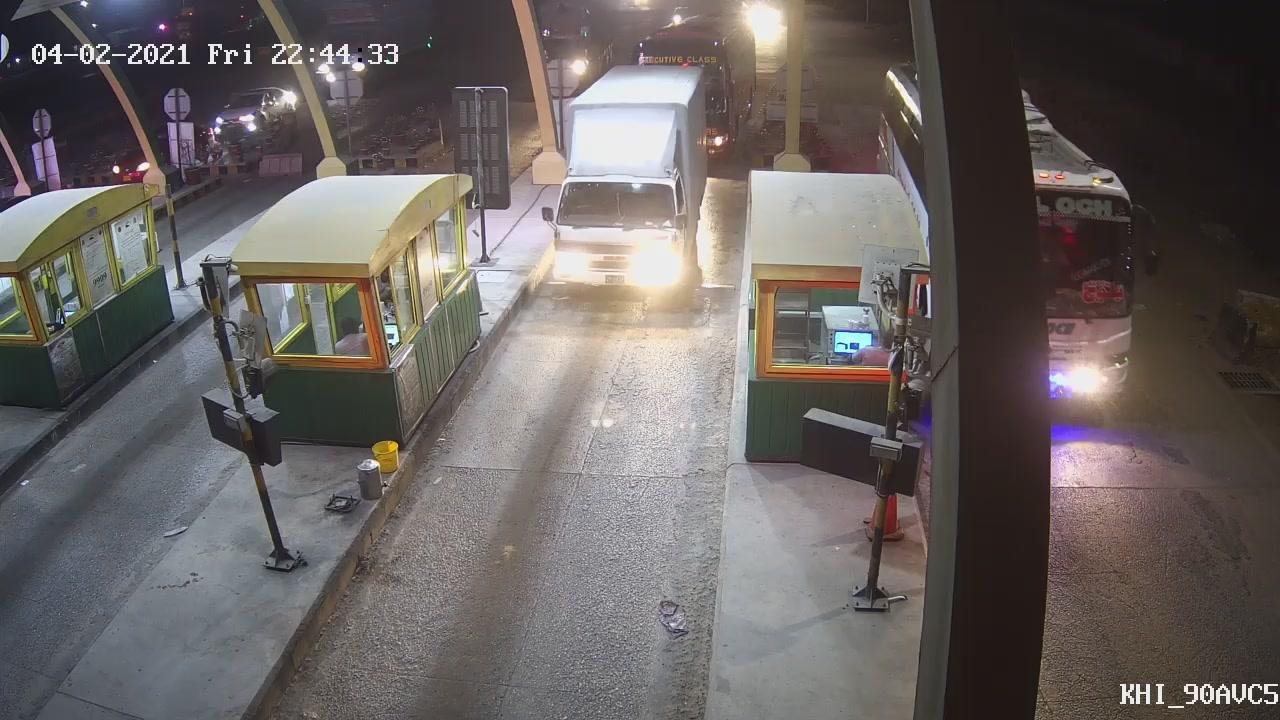F5: (542, 65, 723, 310)
